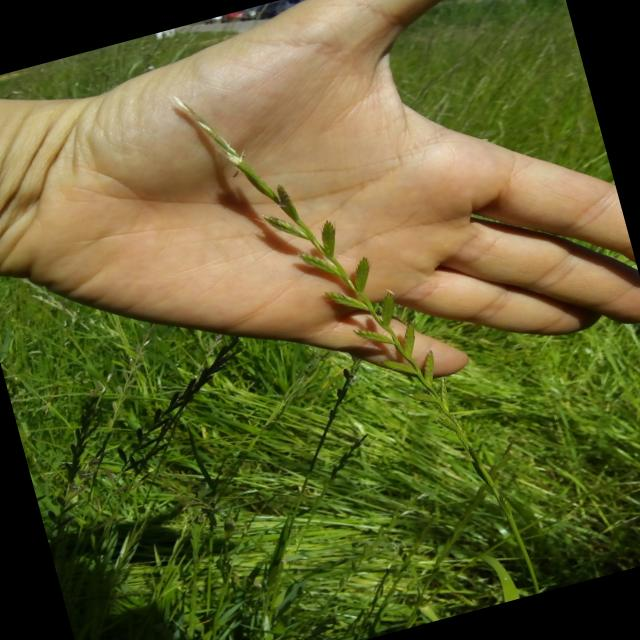Lolium: (0, 32, 548, 640)
